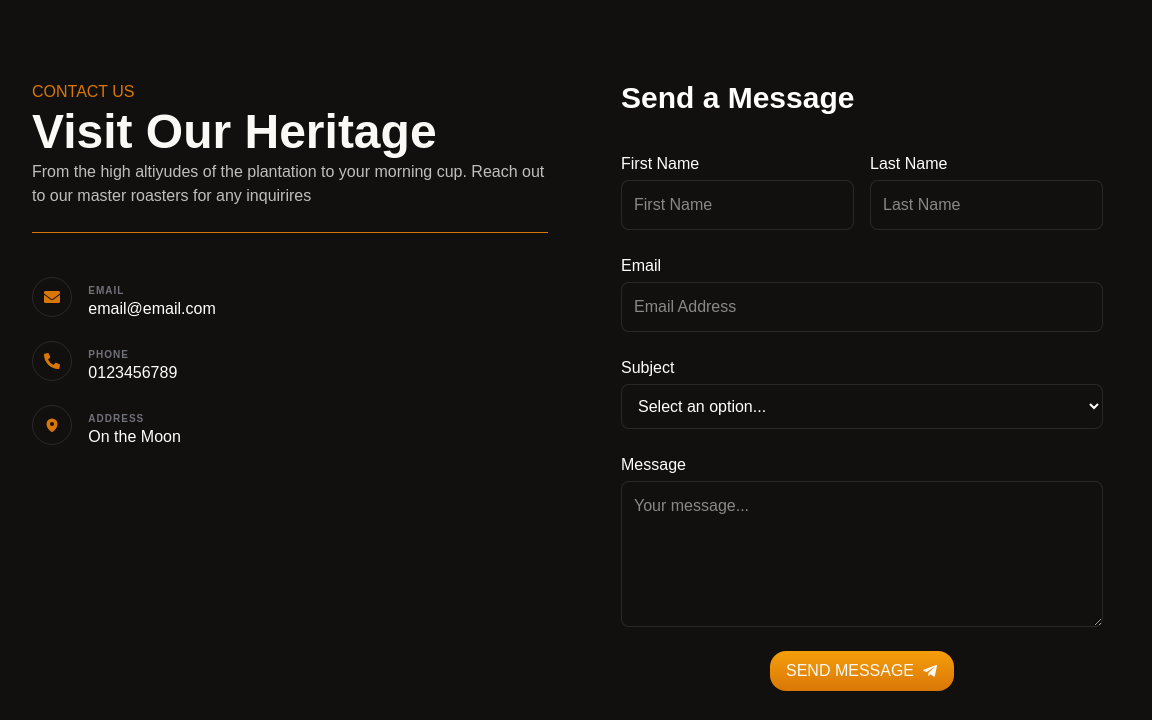
Test: Contact Page › submits the form successfully and clears inputs
Type "John" into the field with placeholder "First Name" at coordinates (738, 205), box [621,180,854,230]
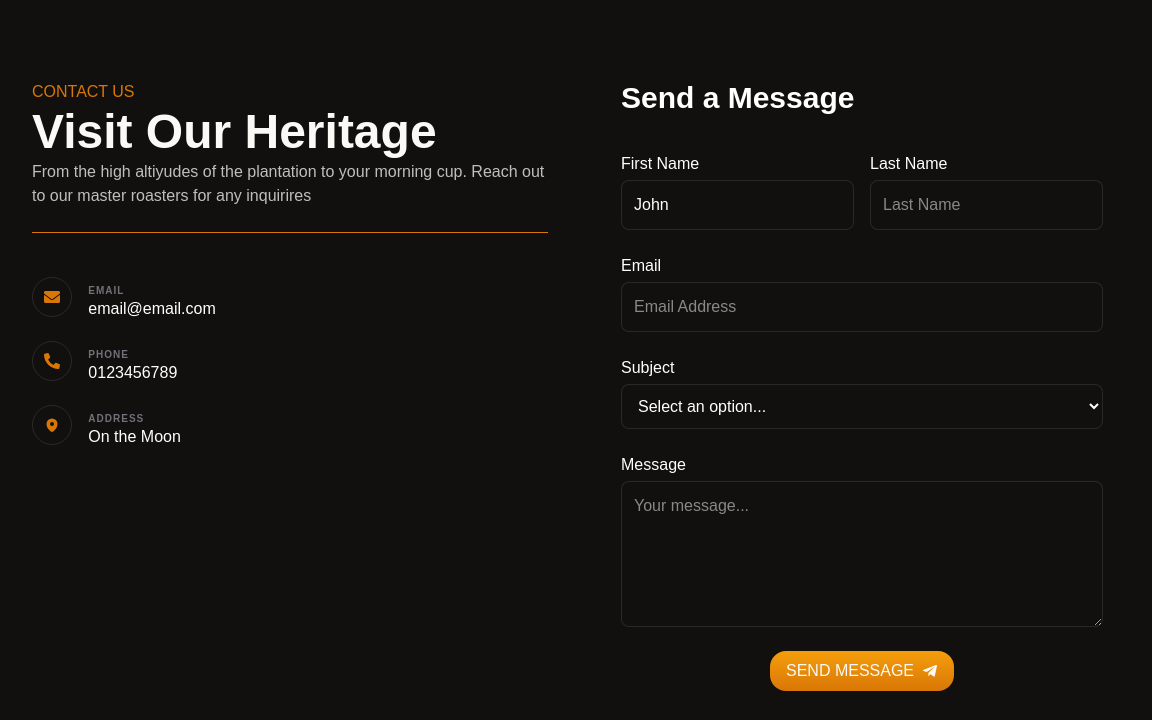
Type "Doe" into the field with placeholder "Last Name" at coordinates (986, 205), box [870,180,1103,230]
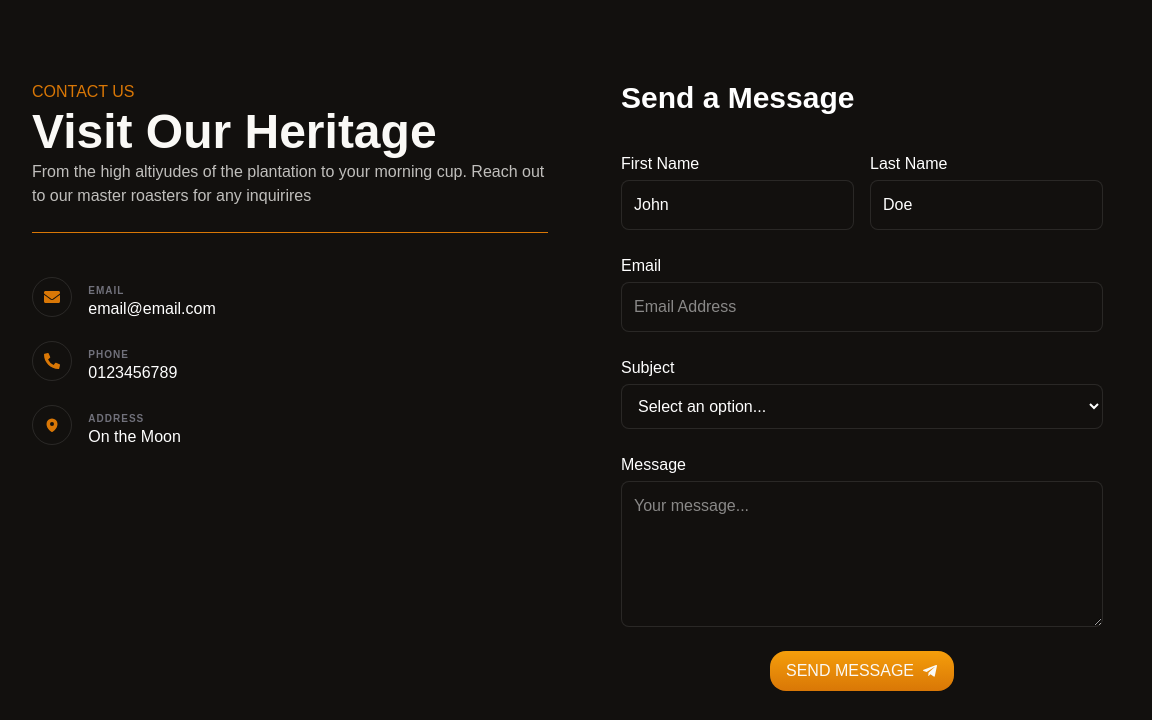
Type "john@example.com" into the field with placeholder "Email Address" at coordinates (862, 307), box [621,282,1103,332]
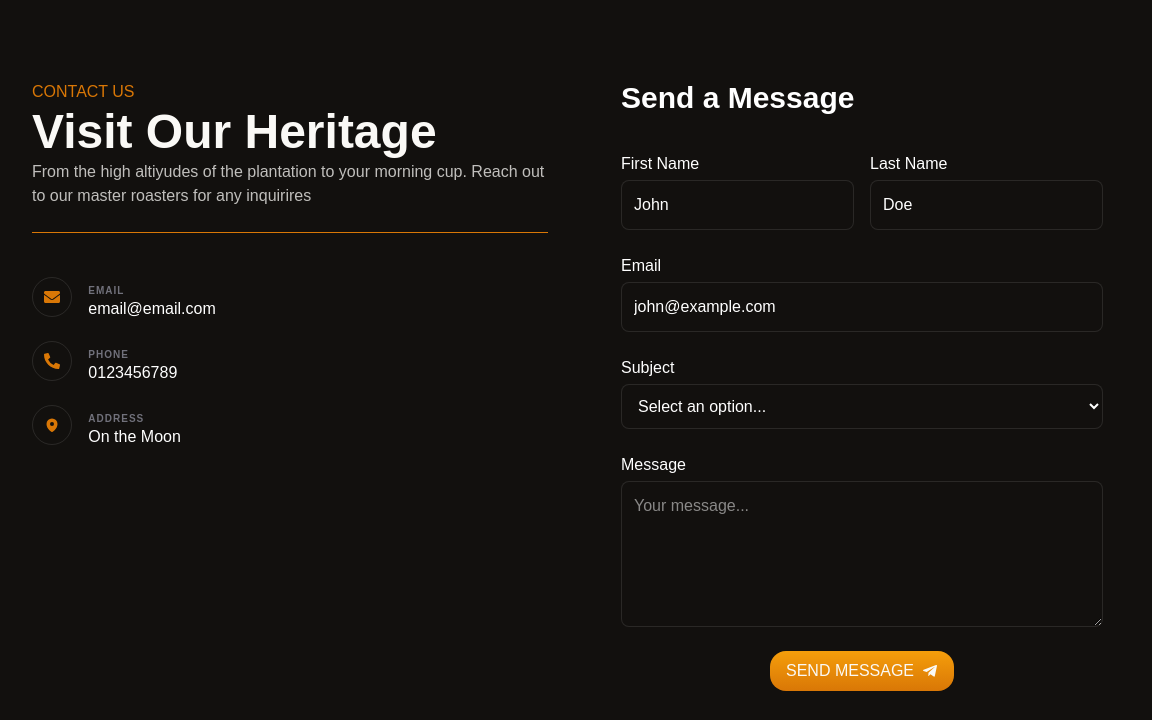
Select "Customer Support" in the dropdown labelled "Subject" at coordinates (862, 406), box [621,384,1103,429]
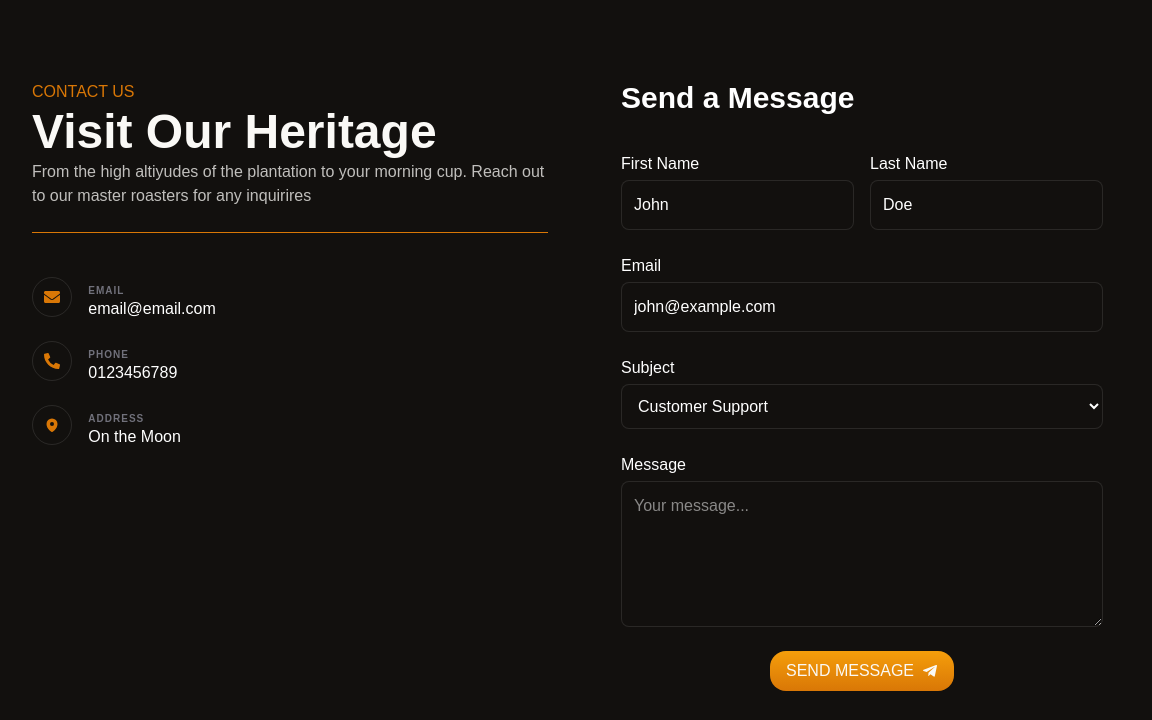
Type "Hello, this is a test message." into the text box with placeholder "Your message..." at coordinates (862, 554), box [621,481,1103,627]
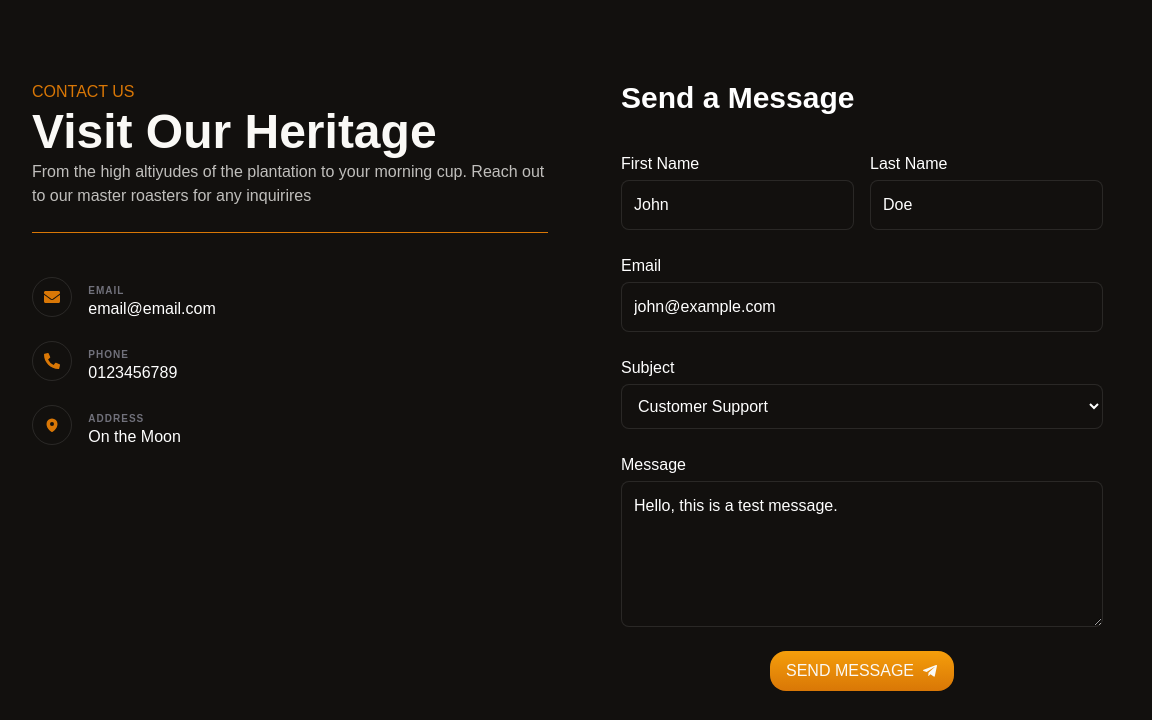
Click the button "Send Message" at coordinates (862, 671), box [770,651,954,691]
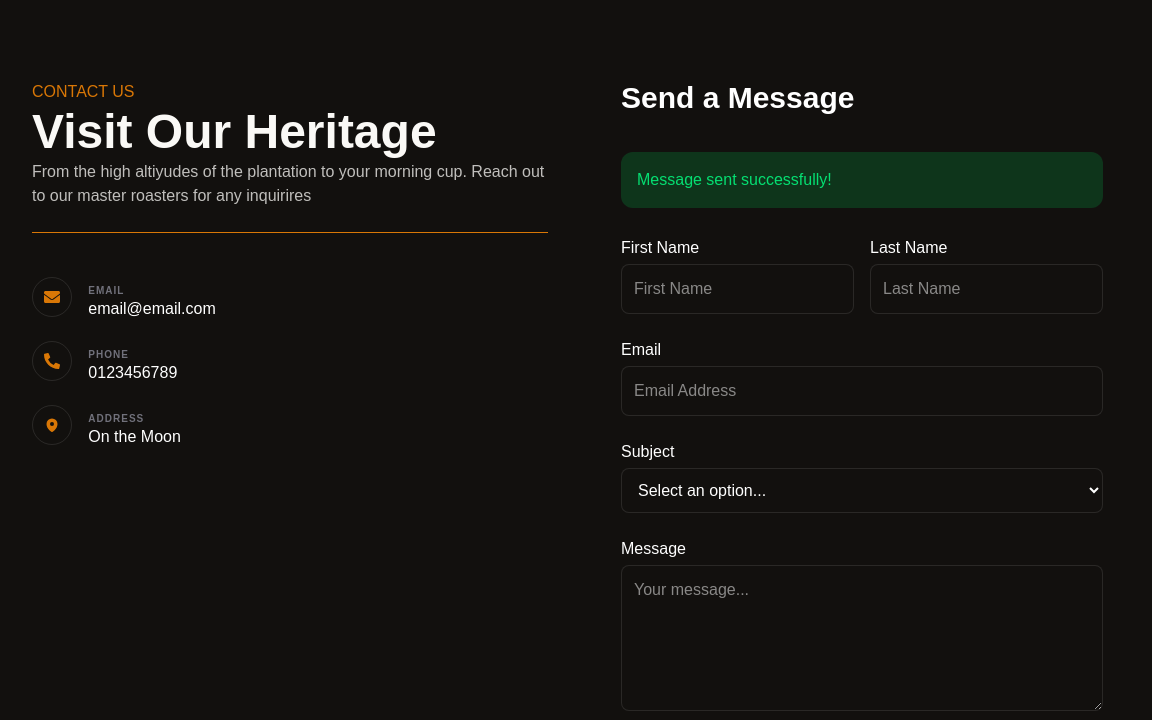
Now the text "Message sent successfully!" is shown, box [621,152,1103,208]
Now the field with placeholder "First Name" is empty, box [621,264,854,314]
